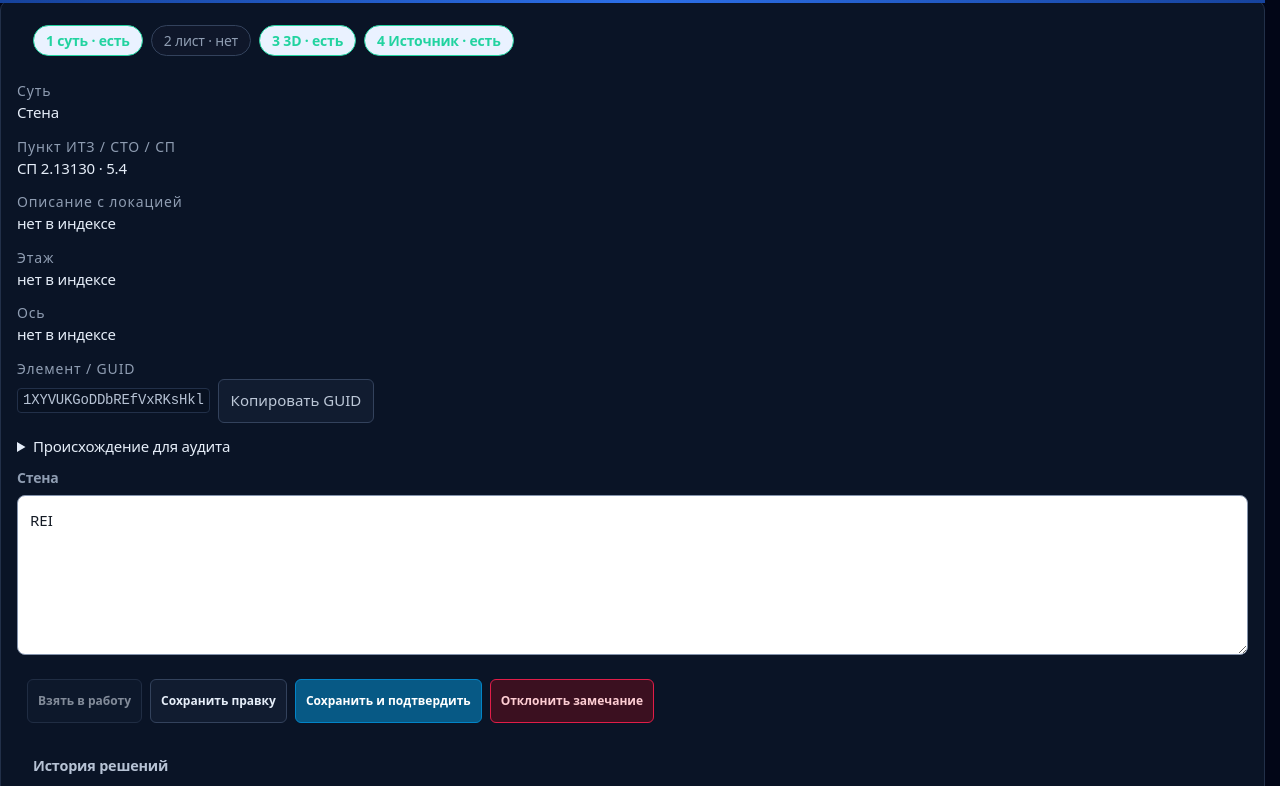
it: RemarkCardPanel › copies the element GUID from the remark card
Click the button "Копировать GUID".
click(296, 400)  # box [218,378,374,422]
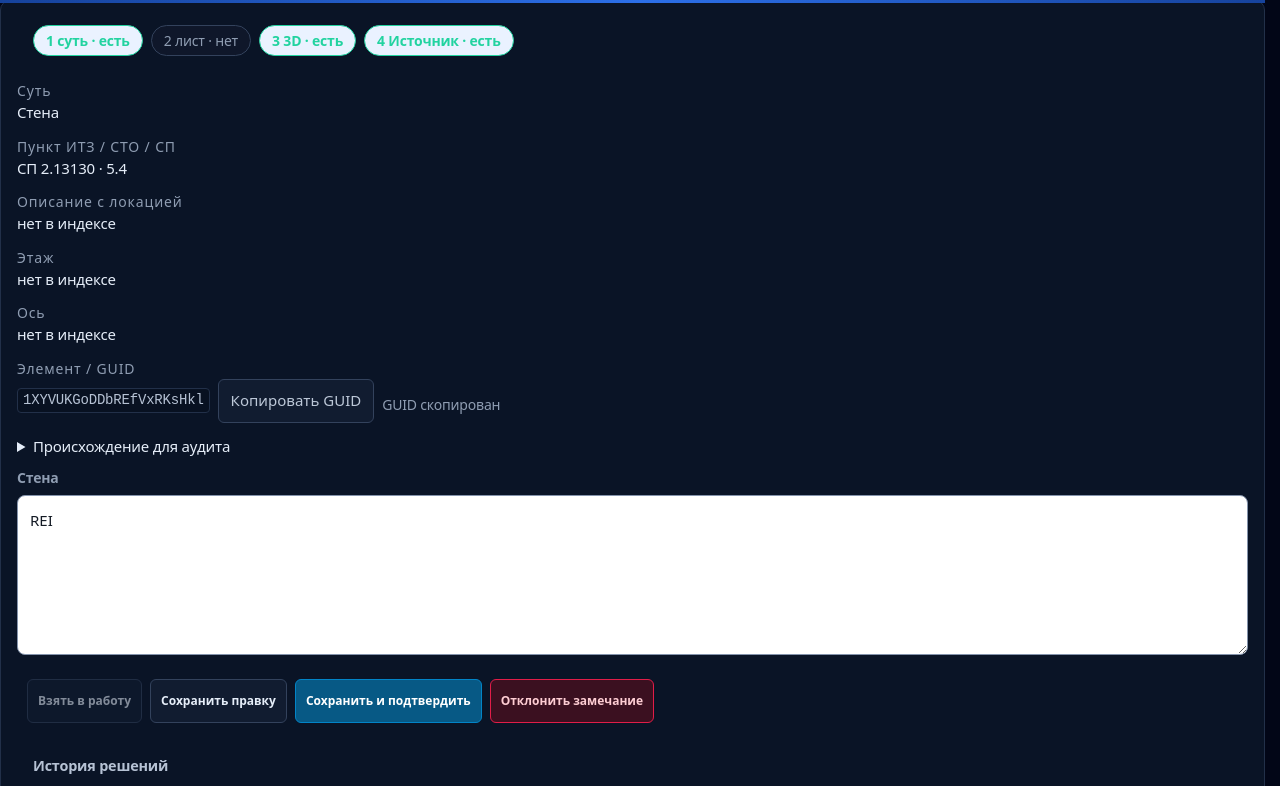
Check: the text "GUID скопирован" is shown, box [382,396,500,415]
